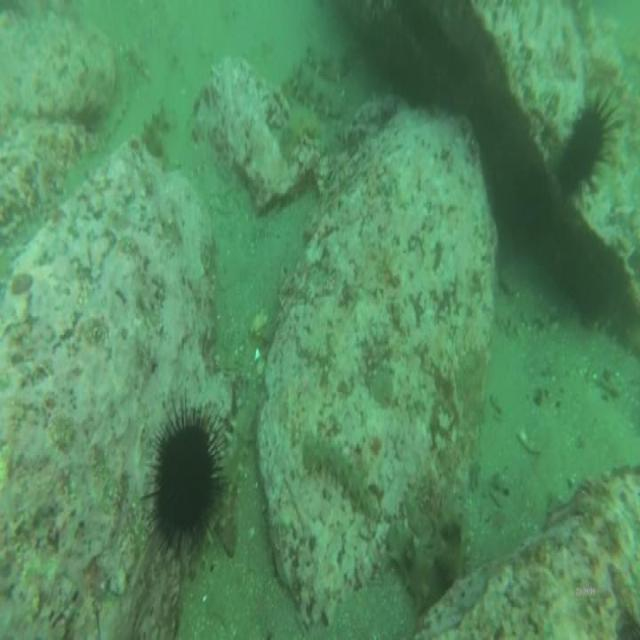echinus: (143, 382, 232, 570), (557, 76, 625, 202)
holothurian: (300, 428, 376, 522), (383, 512, 441, 613), (291, 62, 342, 118), (280, 96, 323, 162), (140, 96, 173, 163), (307, 40, 358, 78)
